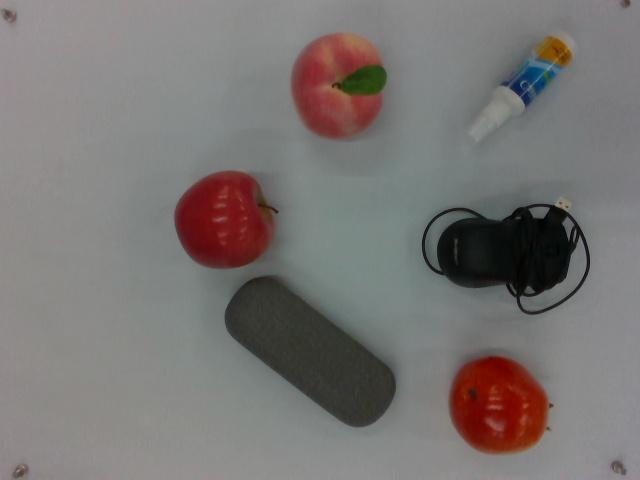apple: (172, 167, 281, 271)
detergent: (462, 25, 580, 149)
glassescase: (226, 264, 399, 433)
mouse: (422, 193, 596, 321)
peach: (291, 31, 387, 146)
pomegranate: (446, 349, 557, 459)
